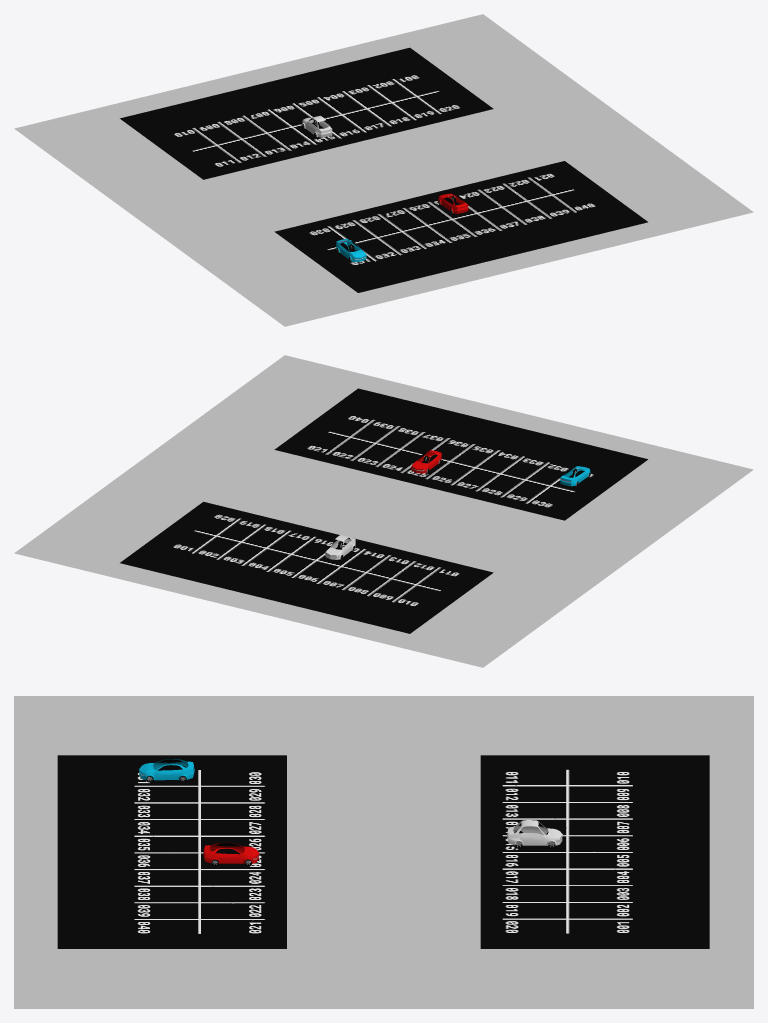
File: ParkingLot.fbx
3 renders of one model, top to bottom at view 1: azimuth 30°, elevation 25°; view 2: azimuth 150°, elevation 25°; view 3: azimuth 270°, elevation 25°, orthographic. The views are drawn at different scales.
Visible parts, largest first — view 1: Plane.004, Plane.005, Plane.006; view 2: Plane.004, Plane.005, Plane.006, Plane.002; view 3: Plane.004, Plane.005, Plane.006, Plane.002, Plane, Plane.003.
Boxes of the visible parts, x1=… form: Plane.004: x1=14, y1=14, x2=753, y2=326; Plane.005: x1=120, y1=47, x2=493, y2=179; Plane.006: x1=274, y1=161, x2=647, y2=292; Plane.004: x1=14, y1=355, x2=753, y2=667; Plane.005: x1=120, y1=501, x2=493, y2=633; Plane.006: x1=274, y1=388, x2=647, y2=520; Plane.002: x1=325, y1=535, x2=355, y2=561; Plane.004: x1=14, y1=696, x2=753, y2=1008; Plane.005: x1=480, y1=755, x2=709, y2=948; Plane.006: x1=57, y1=755, x2=286, y2=948; Plane.002: x1=507, y1=820, x2=562, y2=848; Plane: x1=203, y1=842, x2=259, y2=865; Plane.003: x1=139, y1=759, x2=194, y2=782.
Bounding box in the file's own units: 7350 × 243 × 7350.
